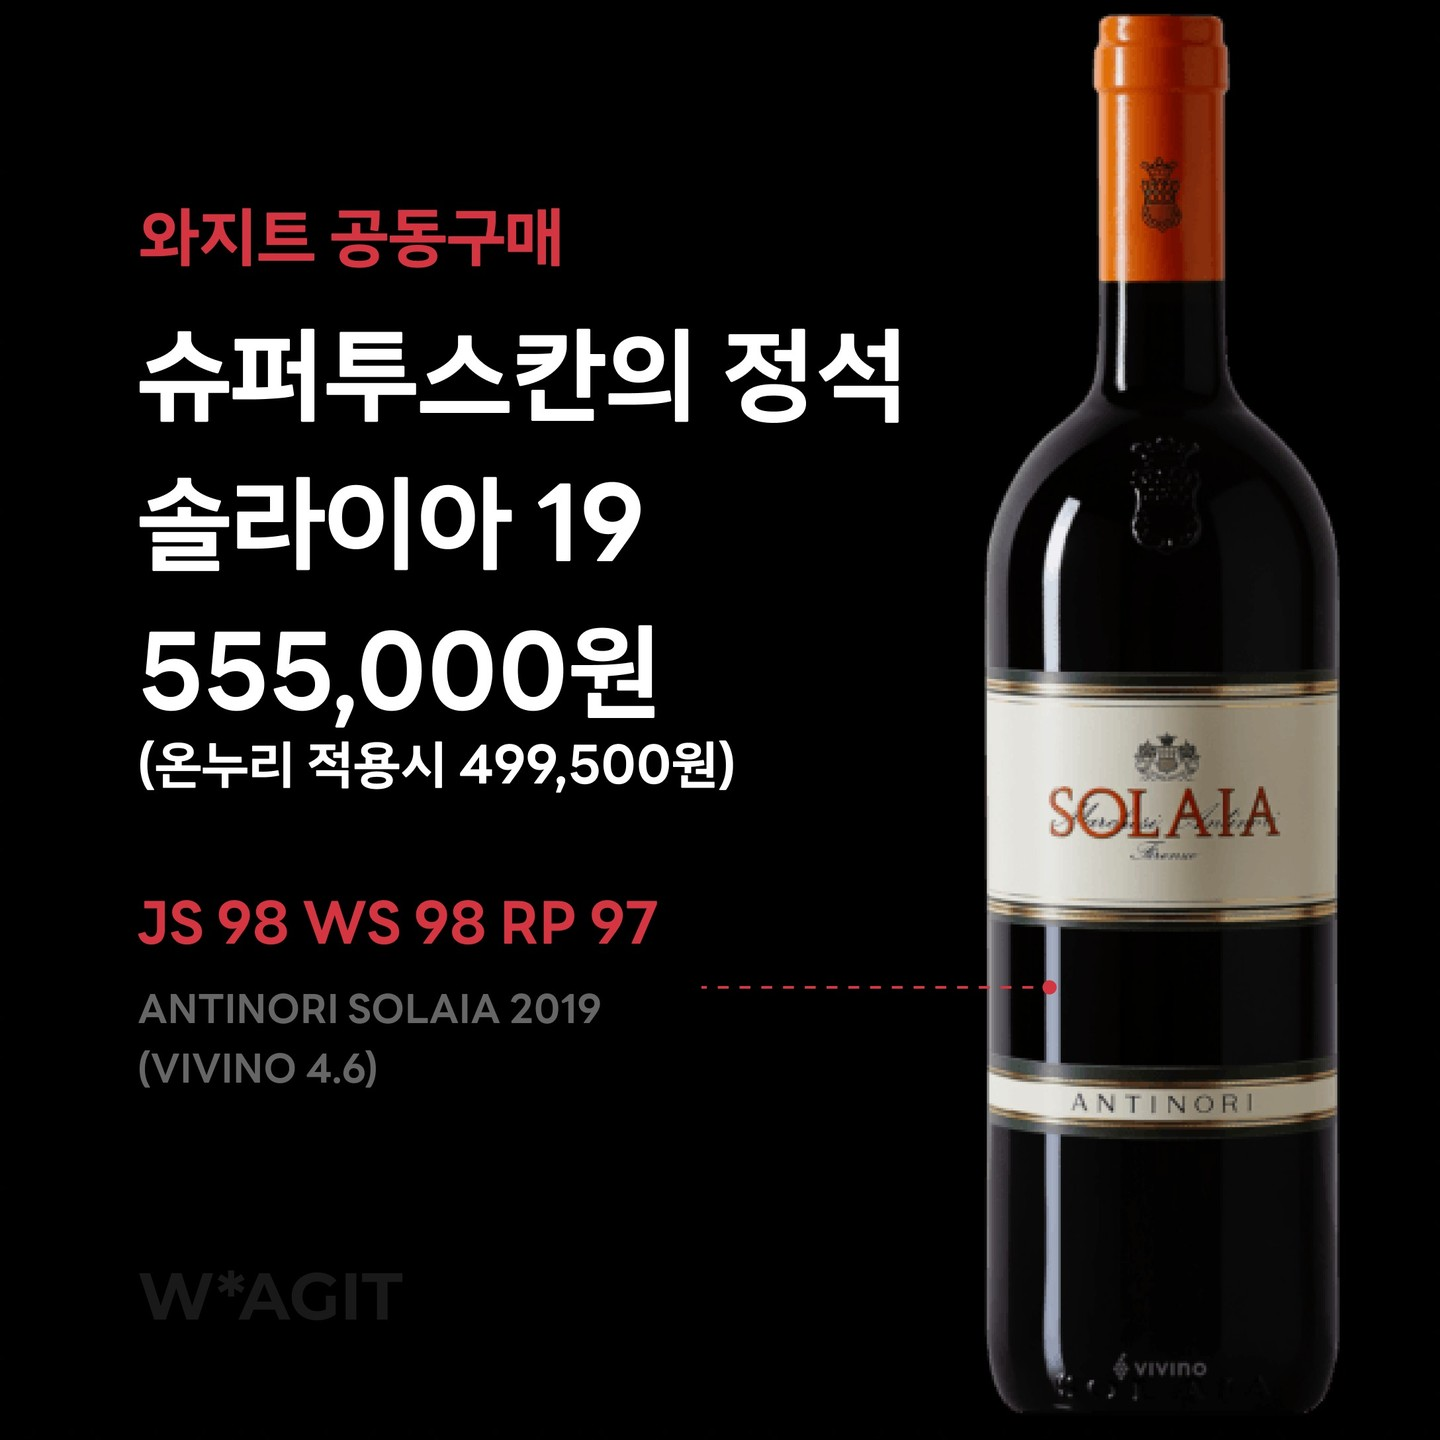alcohol: (975, 4, 1352, 1440)
